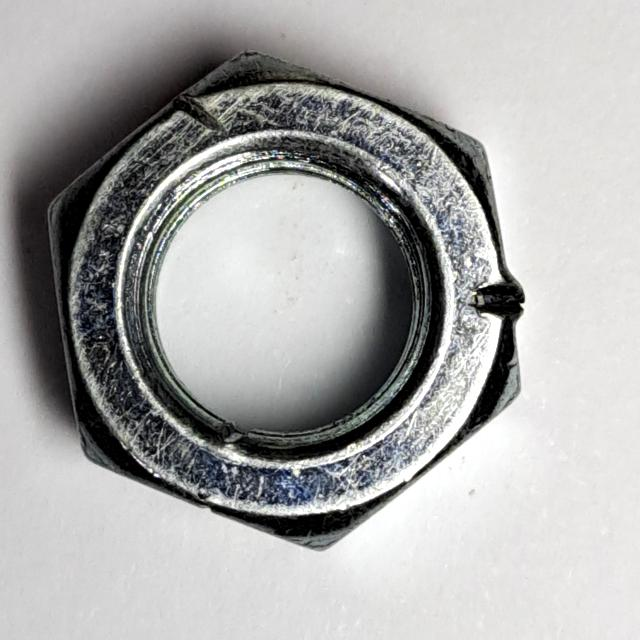Scratches: (34, 38, 538, 565)
